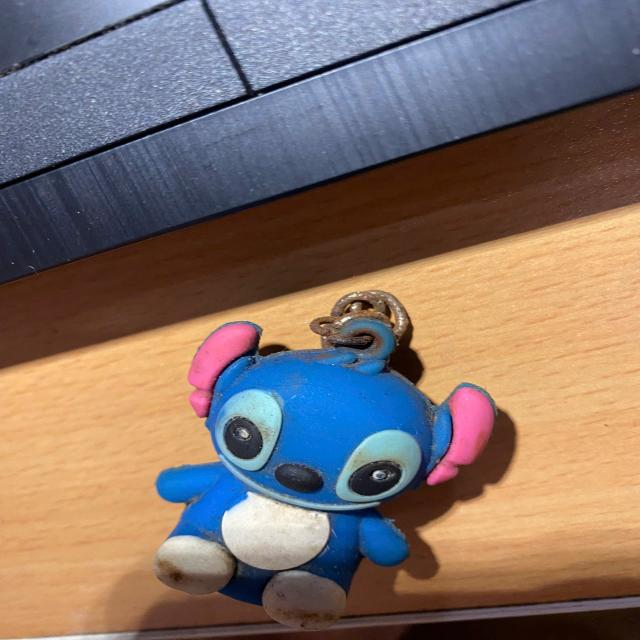stick: (152, 288, 497, 632)
